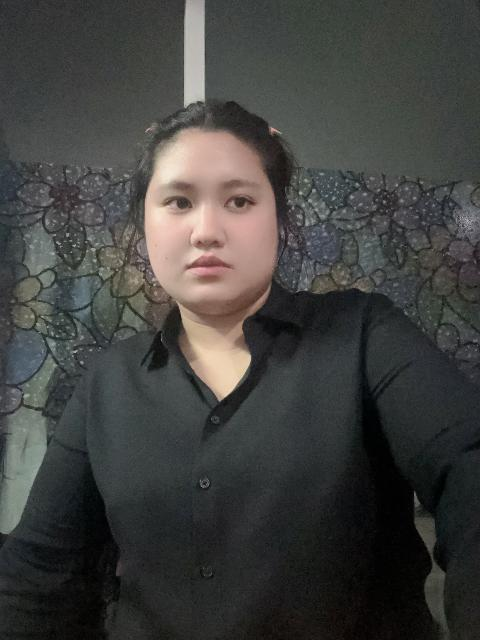fokus: (143, 107, 281, 311)
